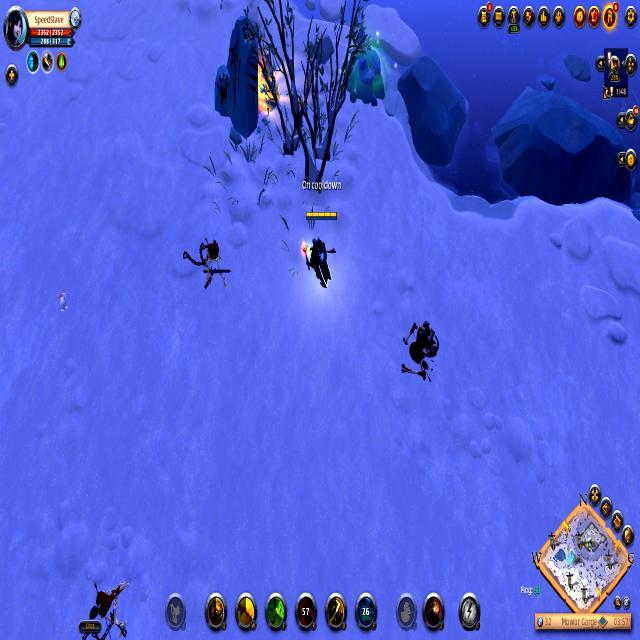ore: (77, 568, 132, 640), (200, 230, 232, 306)
red: (299, 206, 339, 294)
tree: (343, 30, 388, 114)
